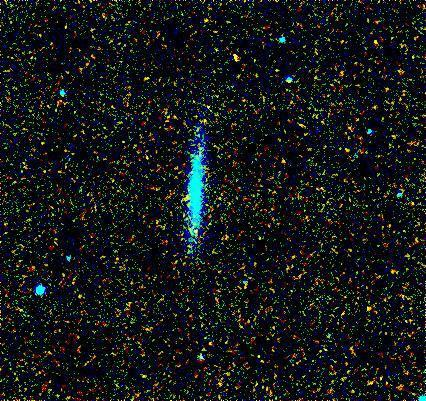star: (219, 52, 249, 82)
